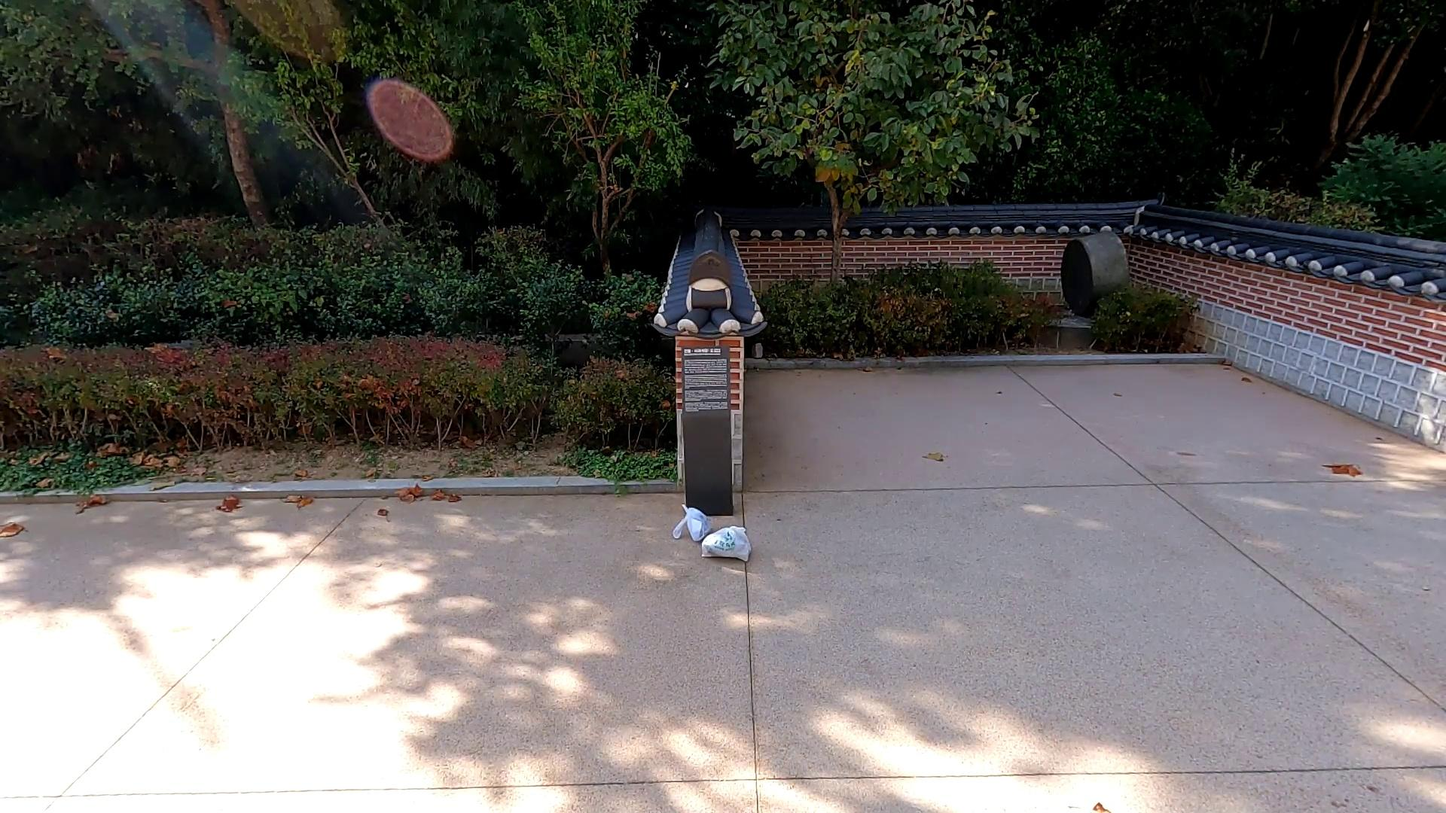trash: (700, 524, 752, 562), (670, 505, 713, 543)
